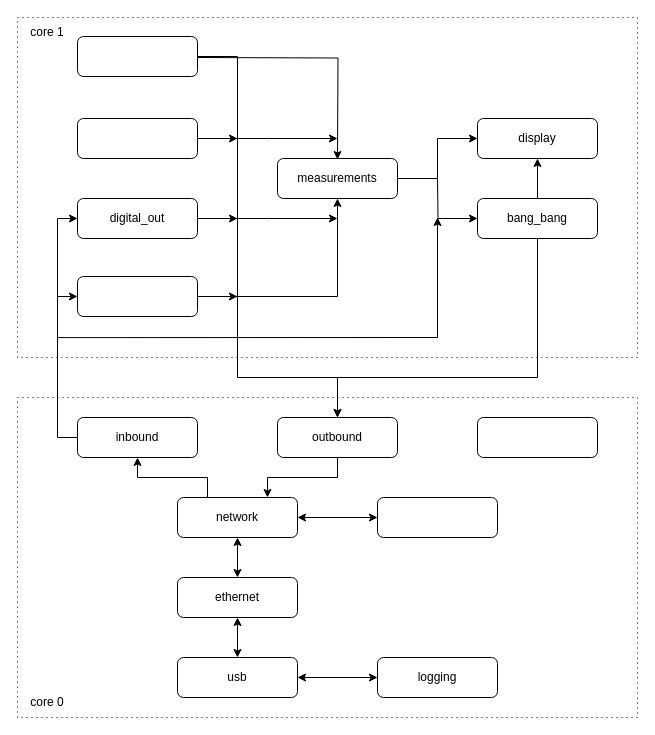
Some shapes in this 655 by 735 pixel diagram are drawn without their labels. Each missing label, with the centre of its shape:
analog_in: the point at 137,138
analog_out: the point at 137,296
dhcp: the point at 437,517
digital_in: the point at 137,56
watch_dog: the point at 537,437
